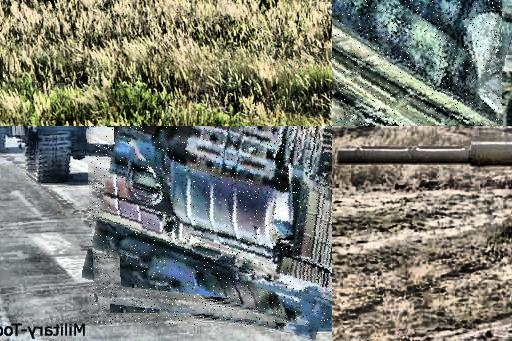tanks: (91, 127, 333, 327), (333, 1, 502, 127), (13, 127, 117, 183), (340, 143, 512, 166)
